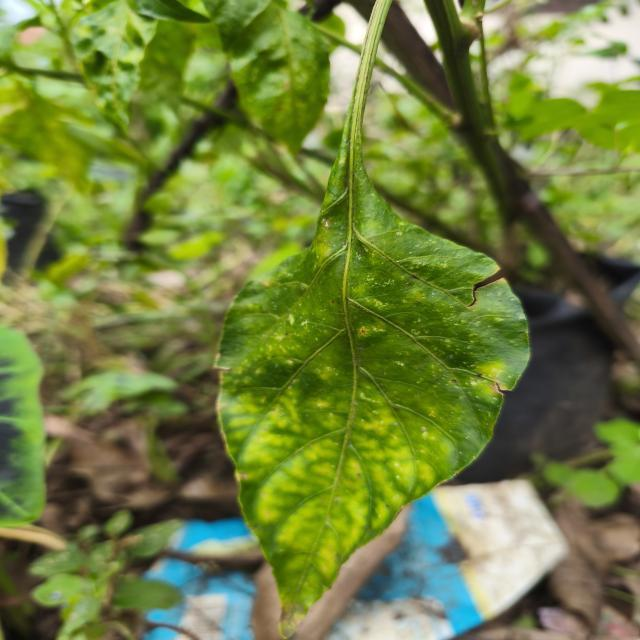Virus Kuning: (212, 172, 532, 638)
